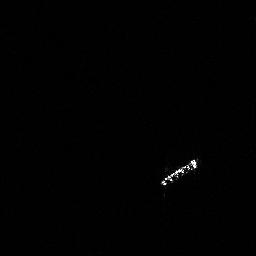ship: (157, 156, 200, 188)
